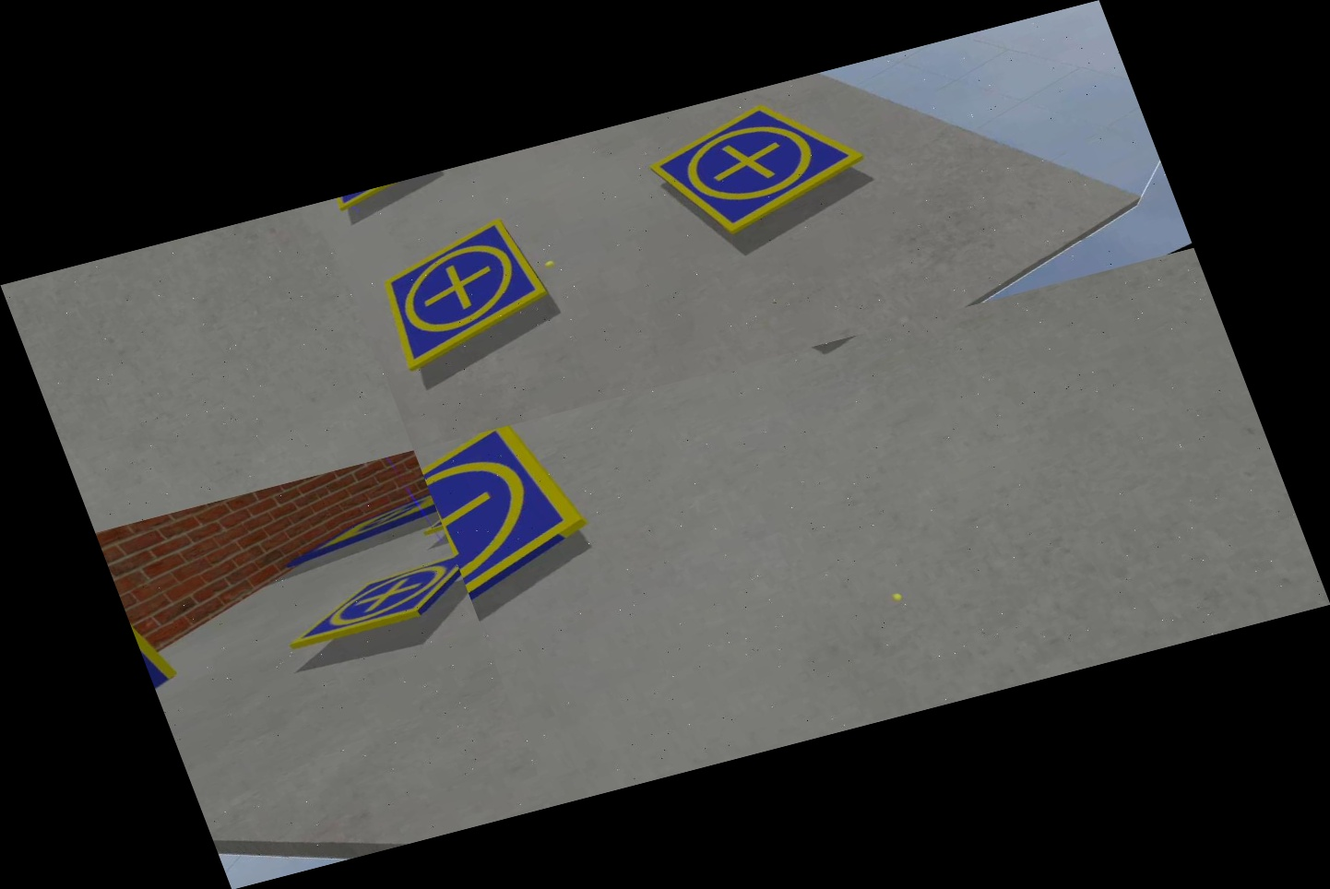large_base: (264, 474, 447, 579)
small_base: (633, 73, 887, 255), (414, 413, 623, 627), (342, 211, 574, 379), (262, 539, 480, 670), (324, 170, 451, 216)
